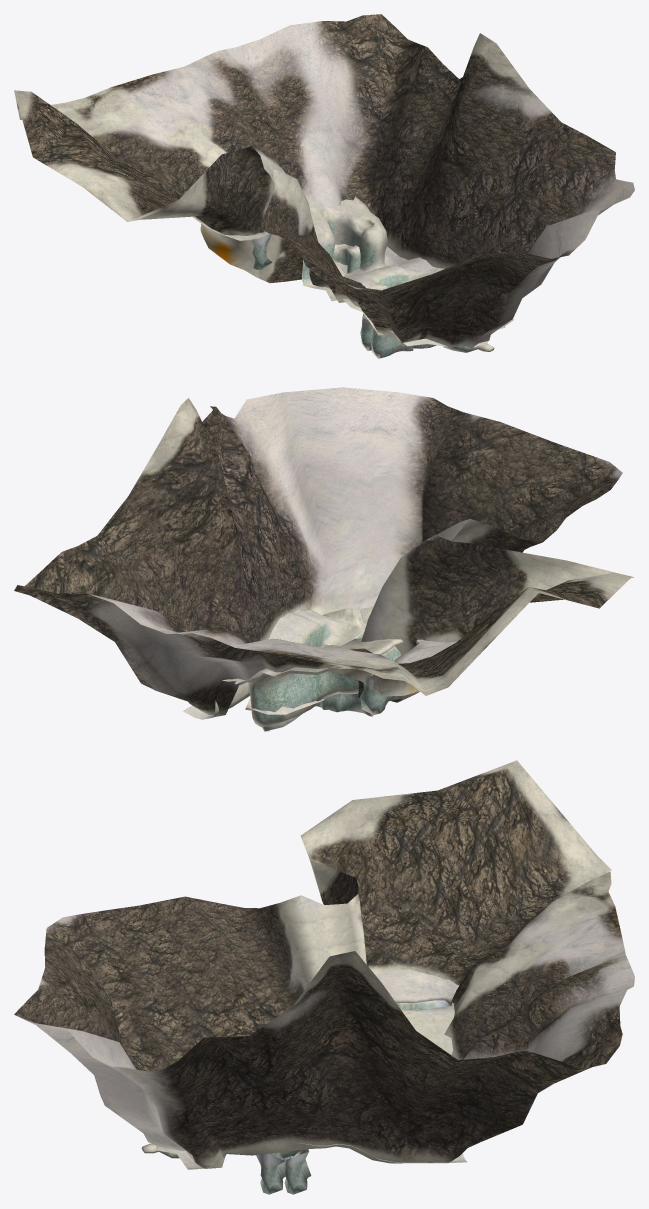
File: CrevasseLevel_extended2.fbx
3 views of the same model, one above another, from view 1: azimuth 30°, elevation 25°; view 2: azimuth 150°, elevation 25°; view 3: azimuth 270°, elevation 25° (orthographic). The views are drawn at different scales.
Visible parts, largest first — view 1: Mountains, Soil, Crevasse, Rock, Crevasse.004; view 2: Mountains, Soil, Crevasse.004, Crevasse.001, Rock; view 3: Mountains, Soil, Crevasse.001, Crevasse.
Part boxes in pixels (bbox=[...]): Mountains: bbox=[14, 14, 634, 347]; Soil: bbox=[192, 196, 513, 352]; Crevasse: bbox=[370, 323, 436, 358]; Rock: bbox=[332, 244, 360, 276]; Crevasse.004: bbox=[252, 233, 272, 269]; Mountains: bbox=[14, 387, 633, 716]; Soil: bbox=[183, 606, 456, 726]; Crevasse.004: bbox=[360, 646, 400, 715]; Crevasse.001: bbox=[315, 693, 373, 716]; Rock: bbox=[245, 697, 323, 731]; Mountains: bbox=[14, 760, 634, 1168]; Soil: bbox=[141, 969, 467, 1169]; Crevasse.001: bbox=[284, 1149, 311, 1194]; Crevasse: bbox=[256, 1153, 285, 1194].
Size of the model in its own units: 31703 by 17169 by 33714.
